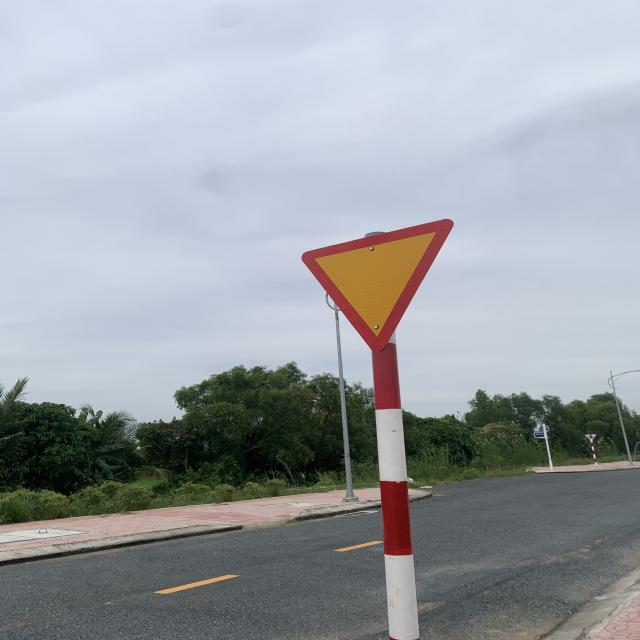Gioi_Han_Toc_Do_25: (300, 218, 454, 352)
